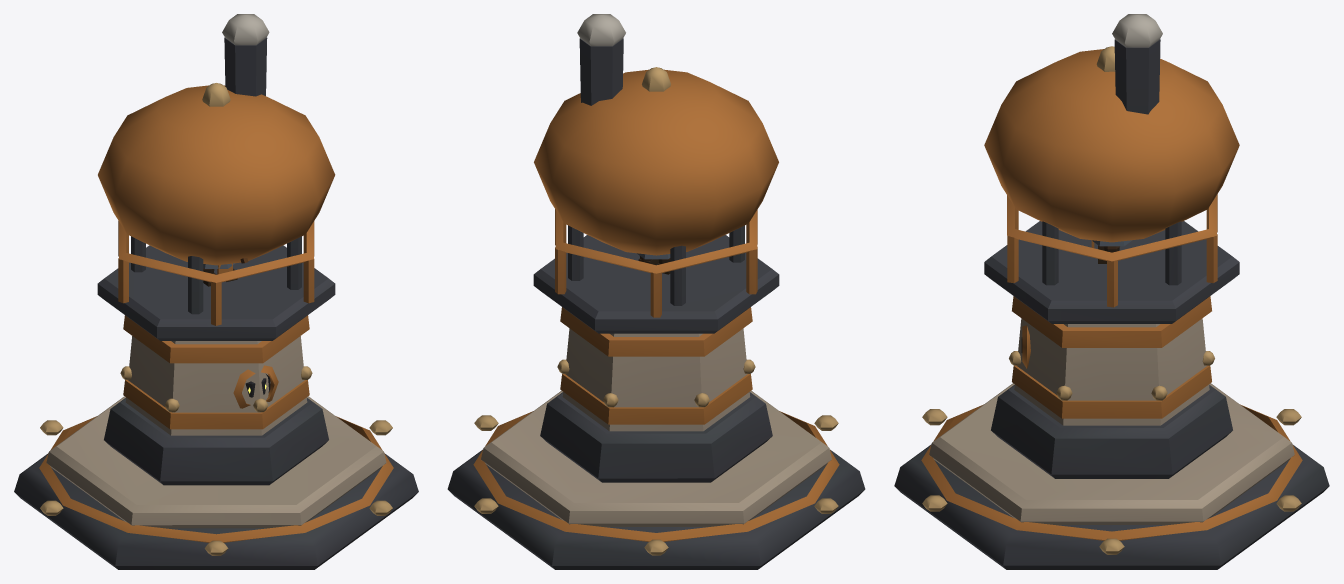
Rendered from nains_0.glb.
3 views of the same model, side by side, from view 1: azimuth 30°, elevation 25°; view 2: azimuth 150°, elevation 25°; view 3: azimuth 270°, elevation 25° (orthographic). The views are drawn at different scales.
Parts seen in each view (by area): view 1: nains_0_peint; view 2: nains_0_peint; view 3: nains_0_peint.
Part boxes in pixels (x1,y1,x2,y2): nains_0_peint: (14,14,418,569); nains_0_peint: (447,14,865,569); nains_0_peint: (894,14,1329,569).
Bounding box in the file's own units: 0.8434 × 1.08 × 0.8517.
